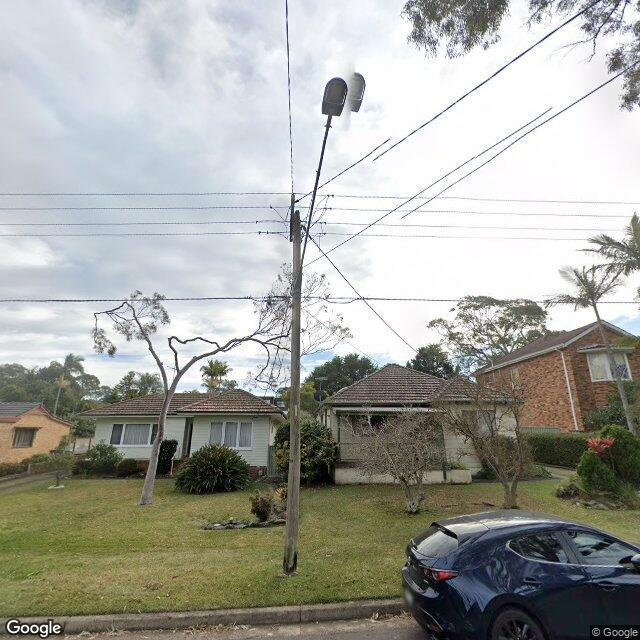crossarm: (289, 193, 296, 243)
streetlight: (295, 72, 365, 292)
timber-pole: (282, 208, 302, 572)
